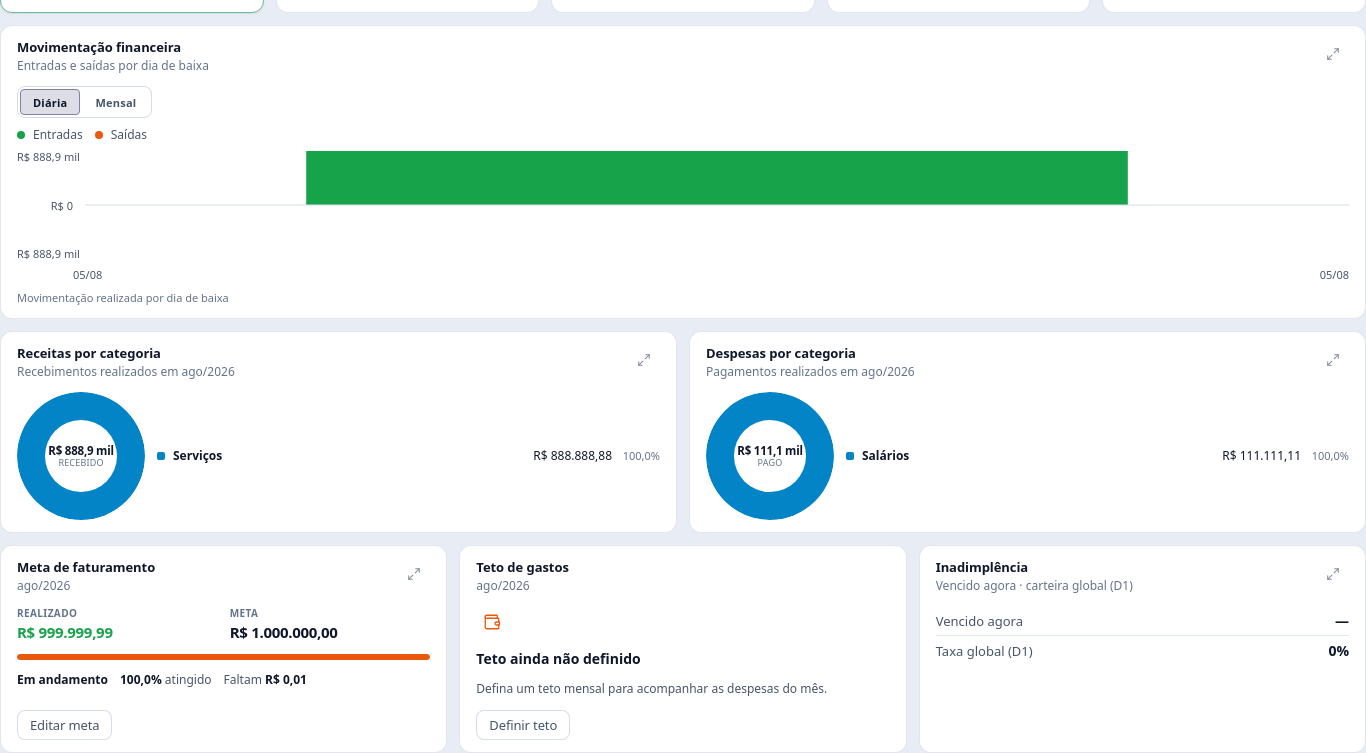
PRE-F13-HOME-POLISH-2 — drill-down e cobertura › P2-19 — Meta permanece funcionando
(page scrolled)
Click the 4th button named "Expandir". click: click(414, 574)
box: [398,558,430,590]
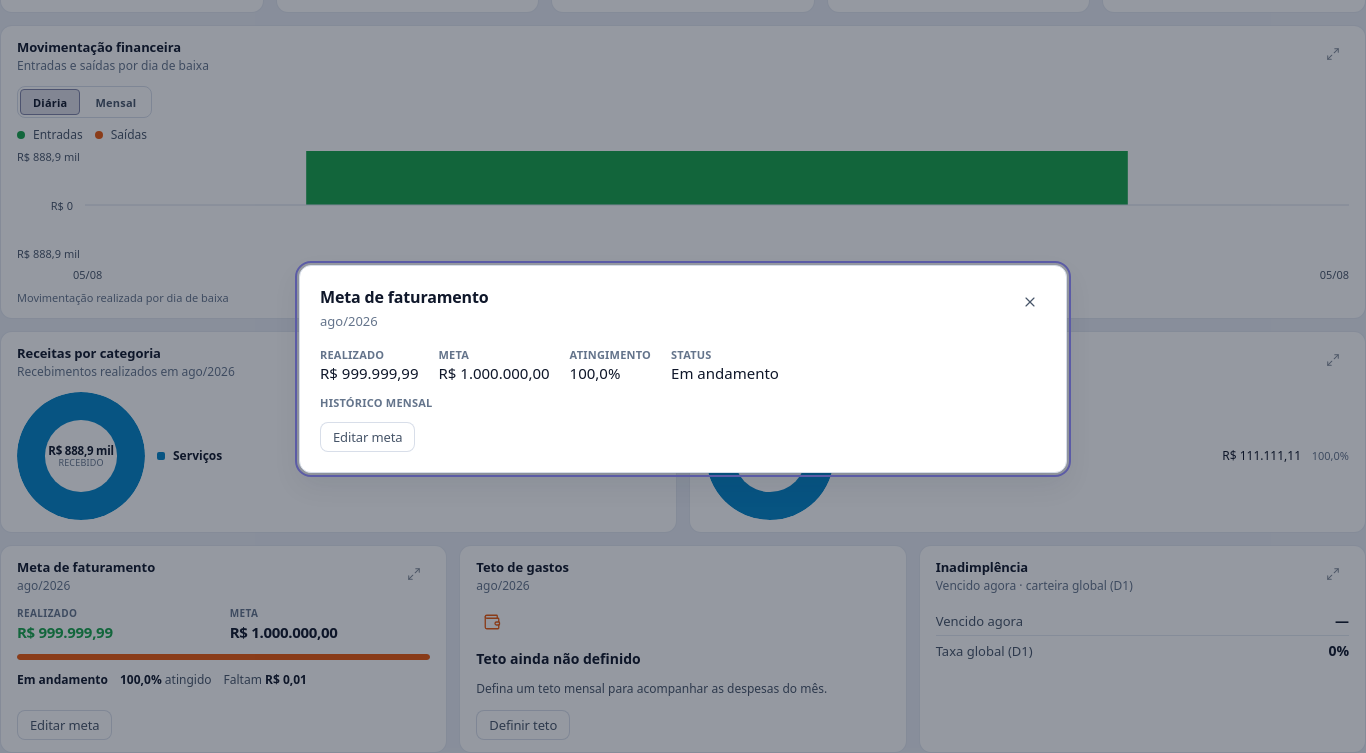
Result: the heading "Meta de faturamento" is shown at [320,286,488,308]
